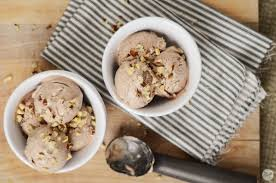ice-cream: (34, 76, 83, 125), (25, 125, 72, 173), (152, 48, 189, 98), (114, 64, 156, 108), (117, 32, 165, 66), (68, 107, 95, 150), (19, 94, 44, 134)
